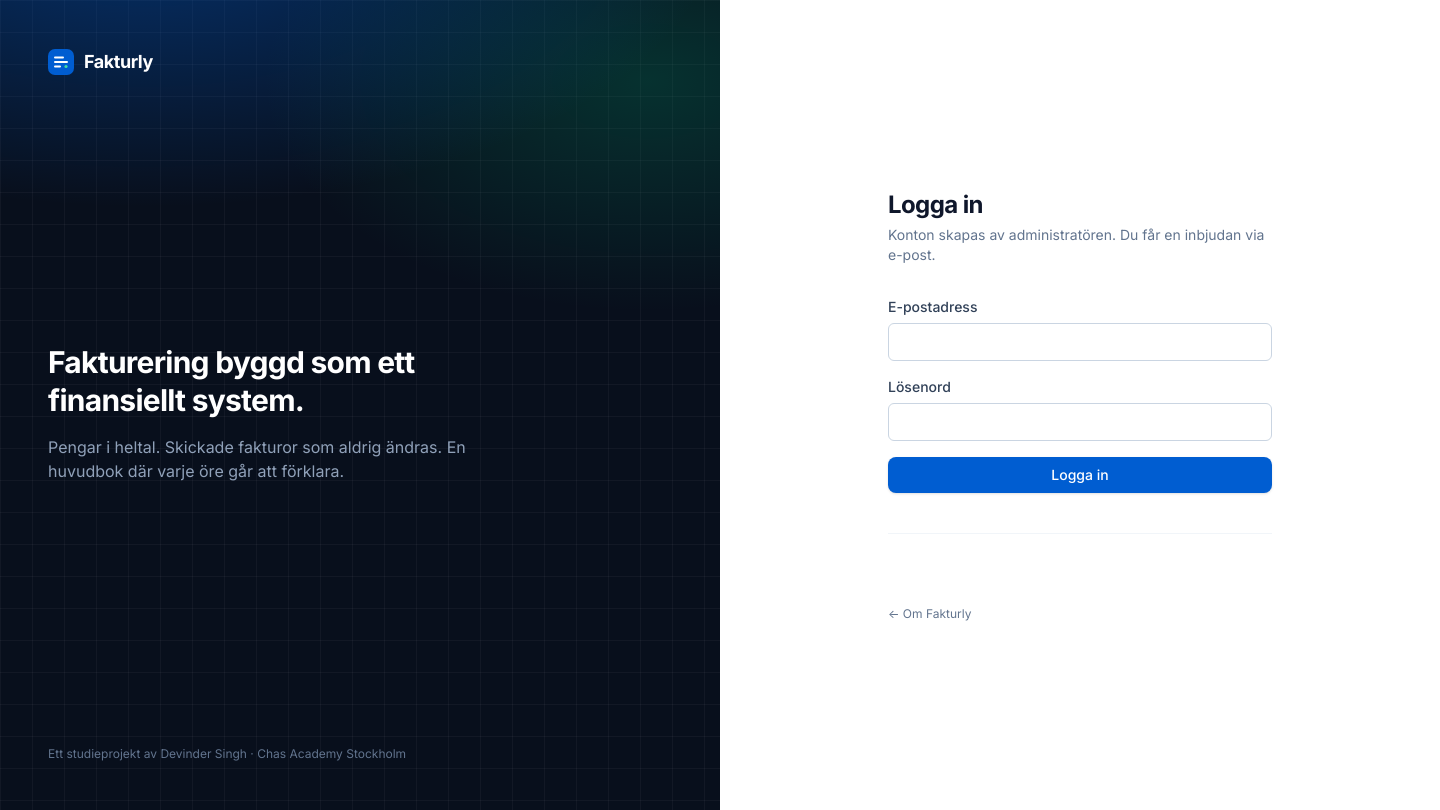
Test case: LoginPage › shows the API error verbatim — it is deliberately vague
Type "anna@example.se" into the field labelled "E-postadress".
click(1080, 342); type("anna@example.se")  # box left=888, top=322, right=1272, bottom=360
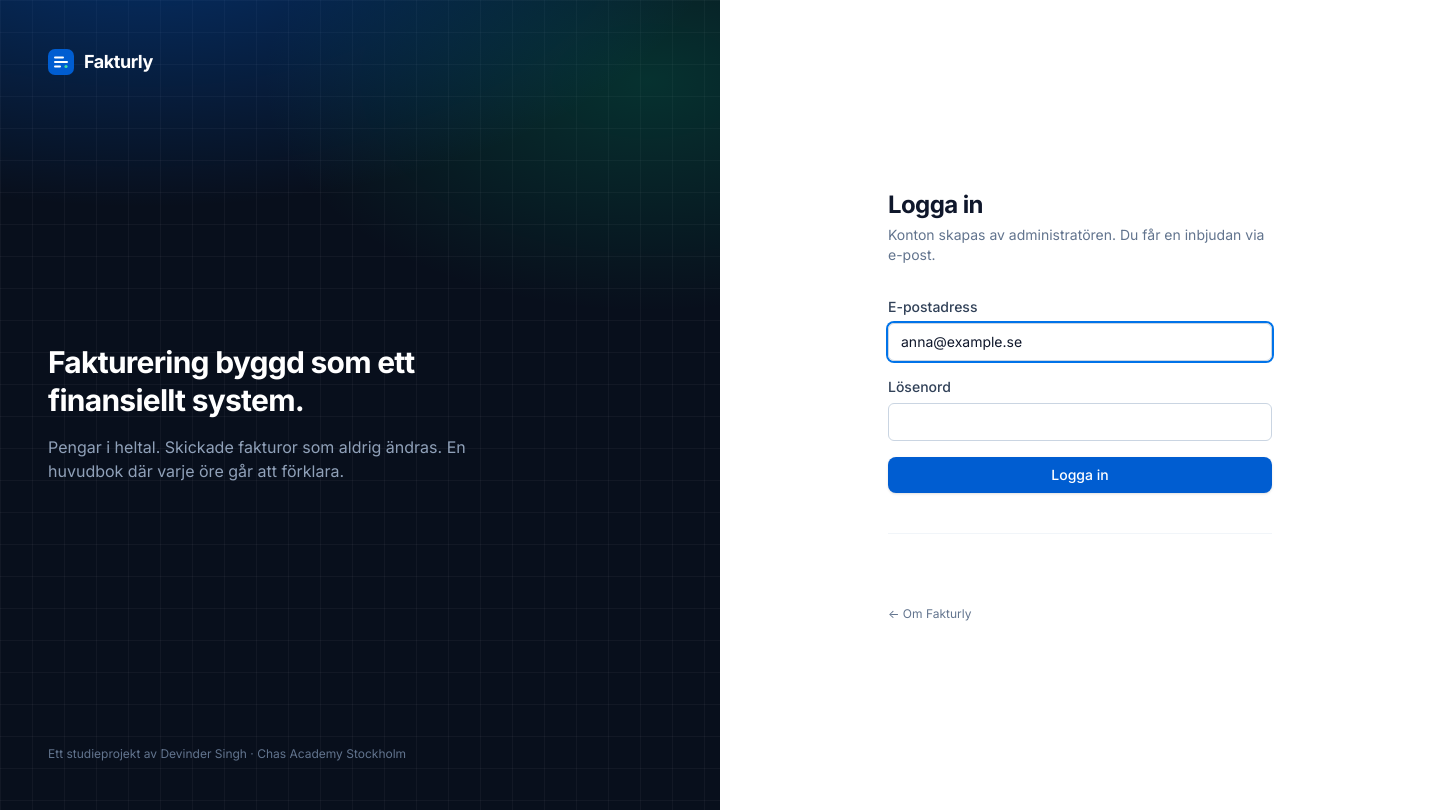
Type "fel lösenord" into the password field labelled "Lösenord".
click(1080, 422); type("fel lösenord")  # box left=888, top=402, right=1272, bottom=440
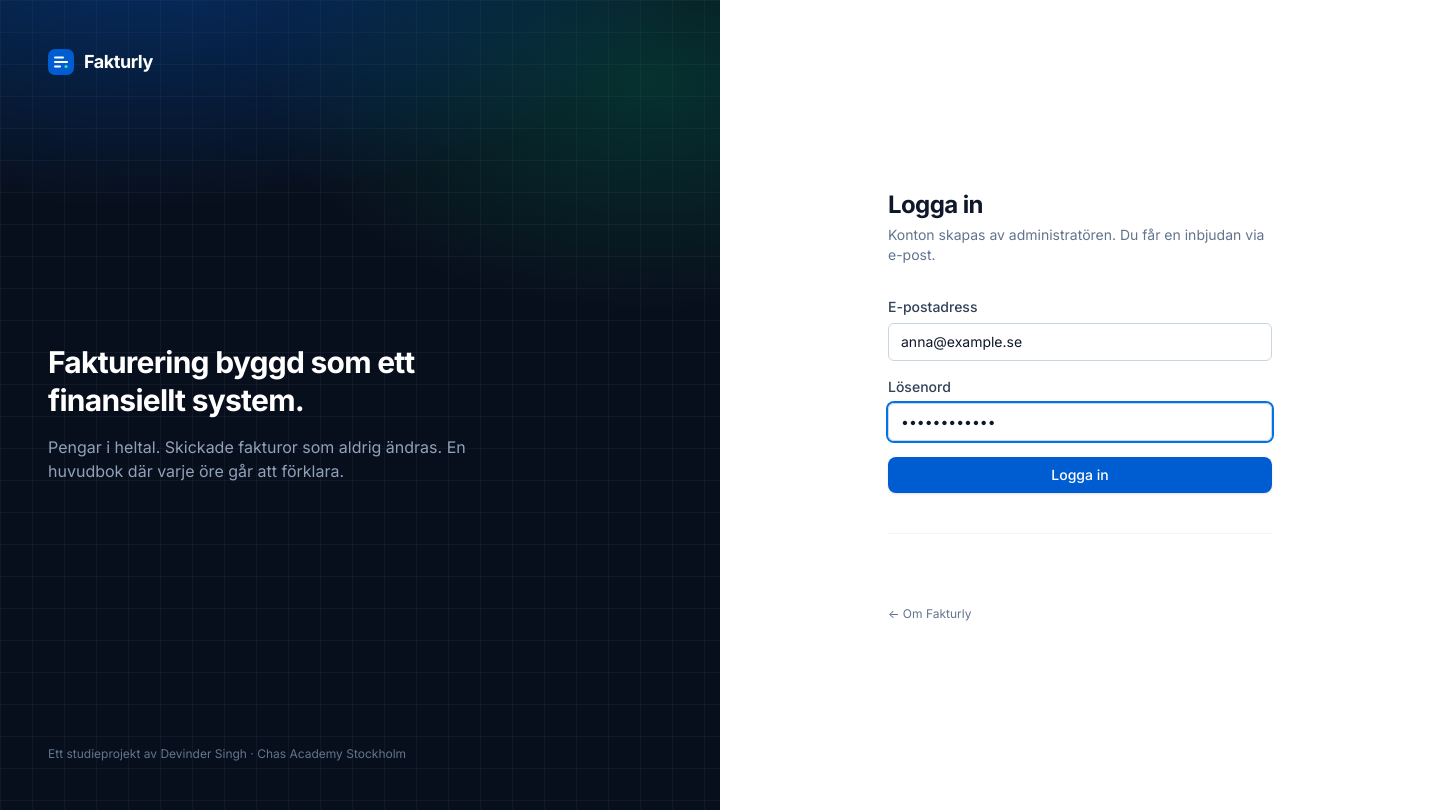
Click the button "Logga in".
click(1080, 474)  # box left=888, top=456, right=1272, bottom=492
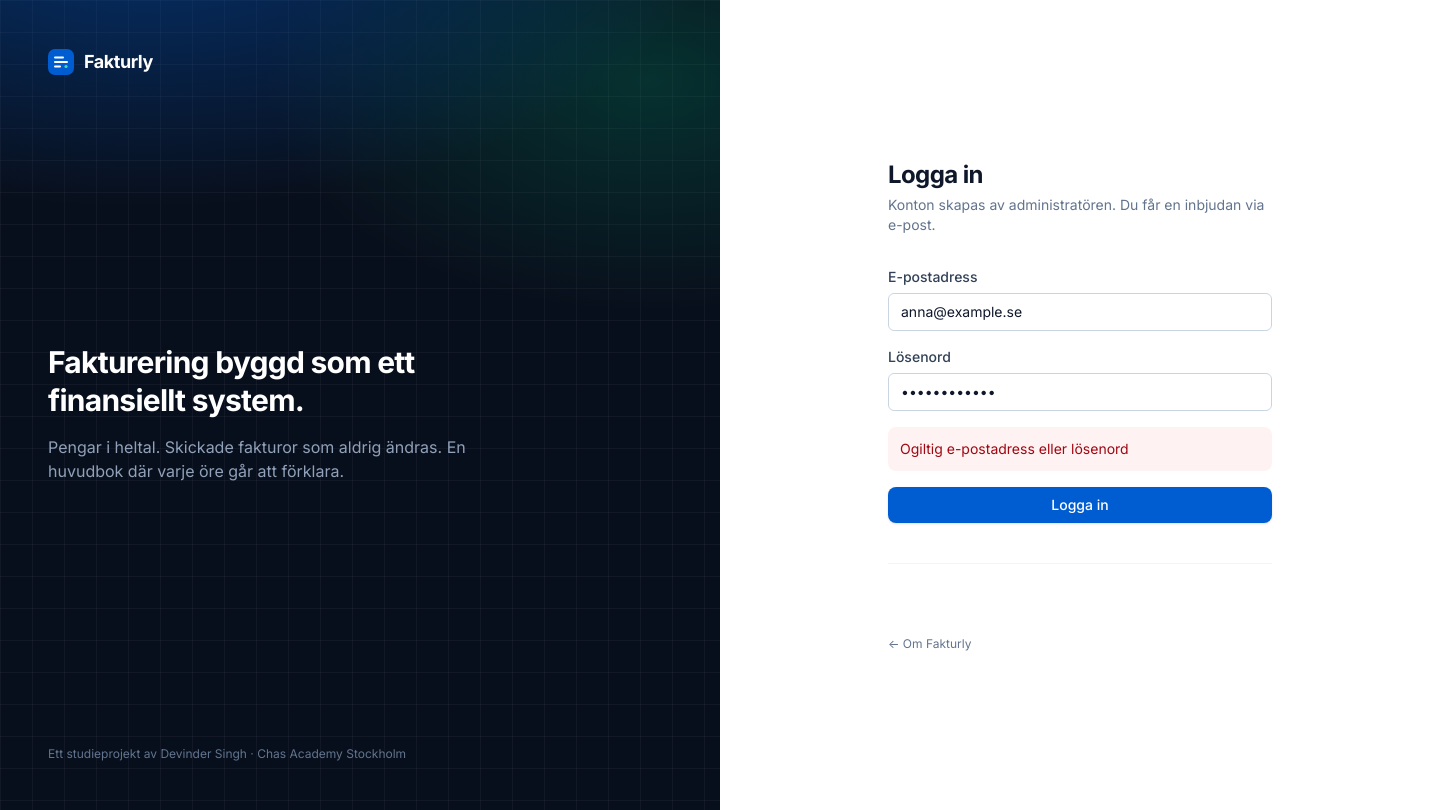
Expected: the message reads "Ogiltig e-postadress eller lösenord", left=900, top=440, right=1129, bottom=456
